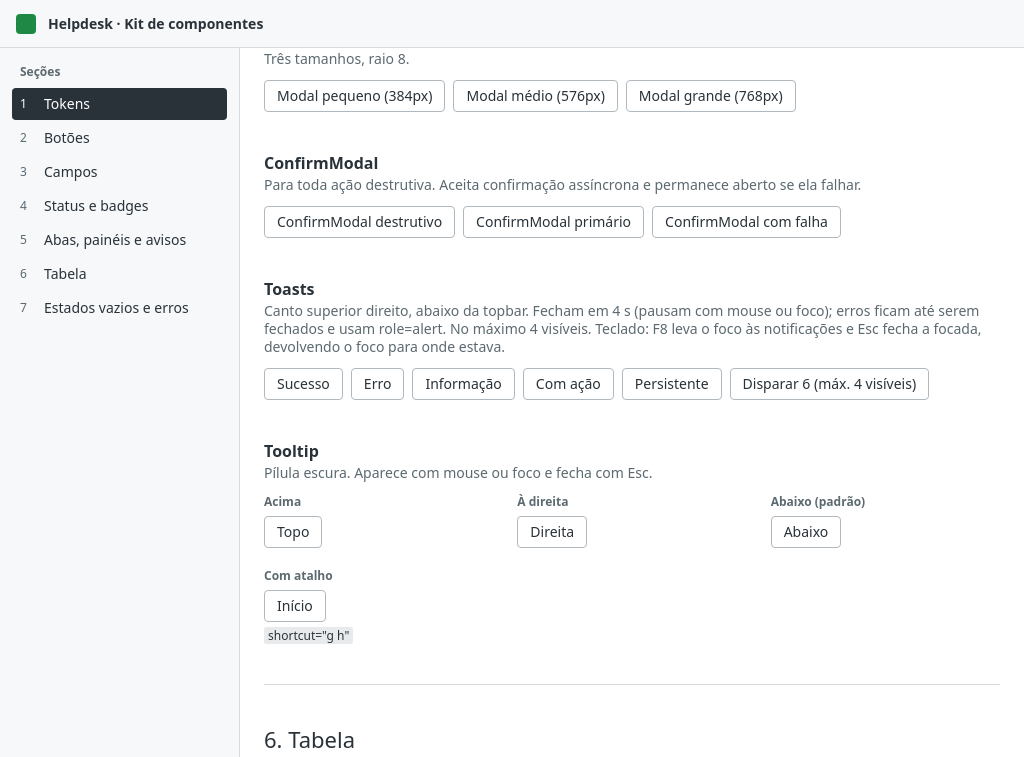
Test case: Kit (/kit) › dispara toasts a partir dos botões da seção de avisos
This screenshot has width=1024, height=757.
(page scrolled)
Click the button "Sucesso": (303, 384) x1=264 y1=368 x2=343 y2=400
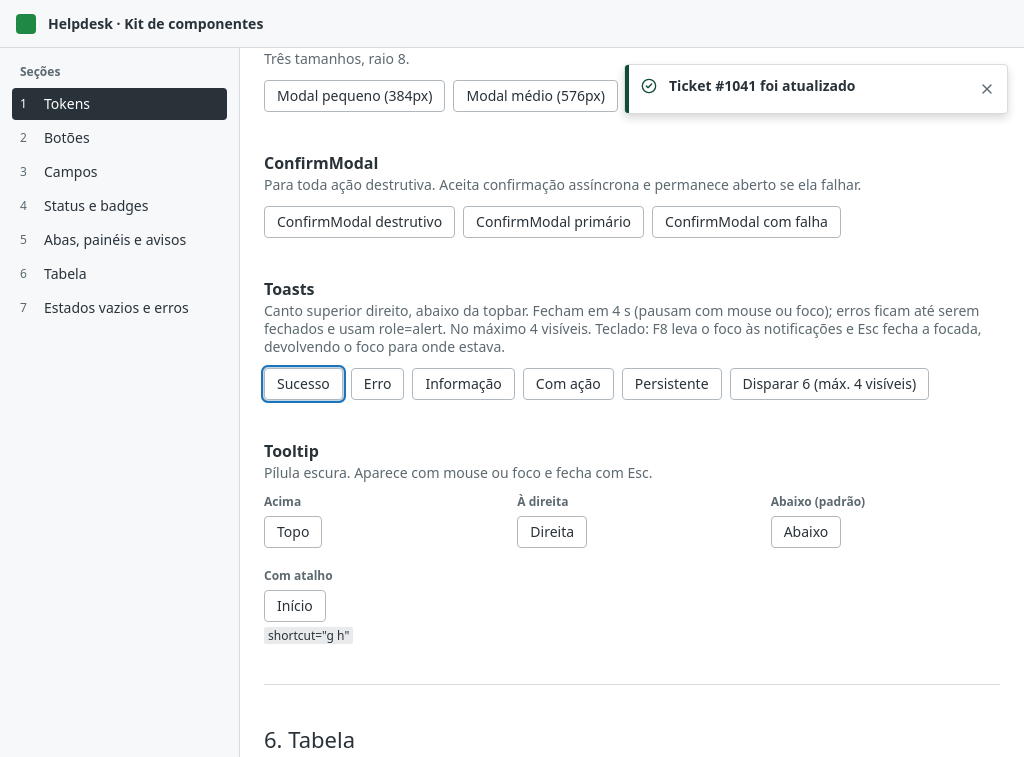
Expected: the text "Ticket #1041 foi atualizado" is shown, x1=669 y1=76 x2=856 y2=95
